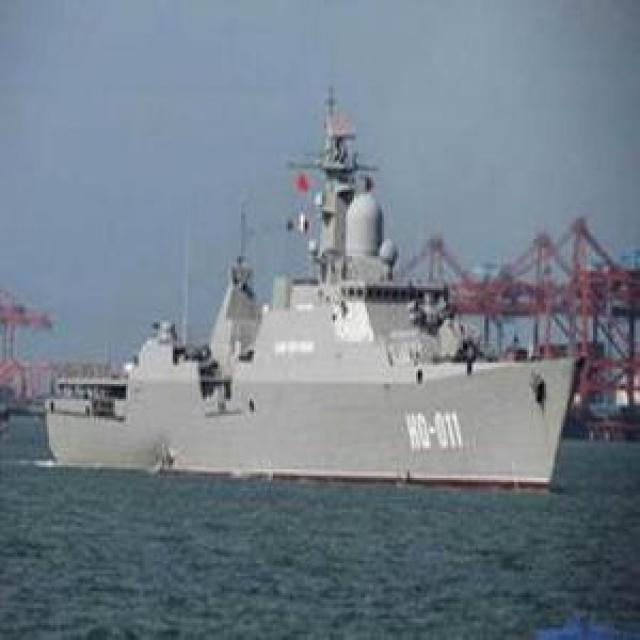navalvessels: (38, 140, 584, 490)
